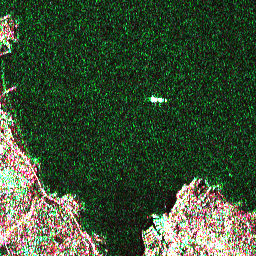ship: (148, 93, 168, 105)
